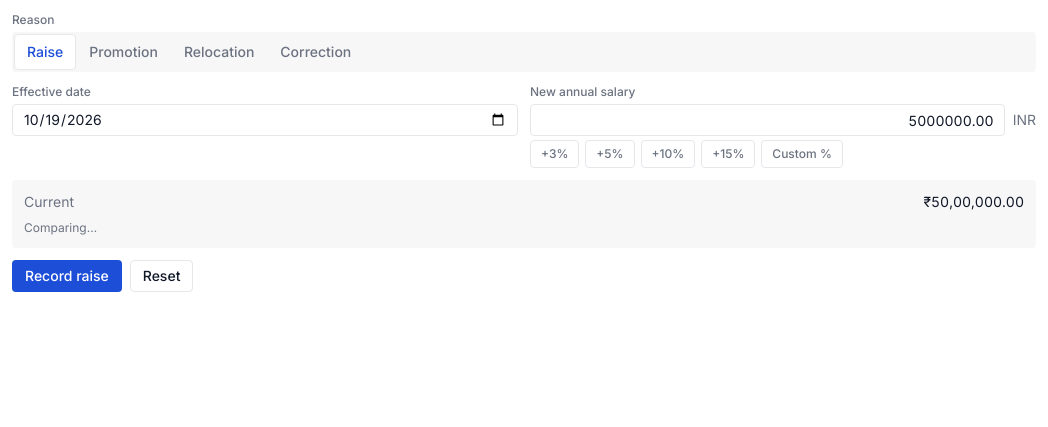
SalaryChangeForm › shows the server message when a business rule is broken
The width and height of the screenshot is (1048, 427).
Replace the text in the field labelled "New annual salary" with "5500000" at x=767, y=120, box [530,104,1005,136]
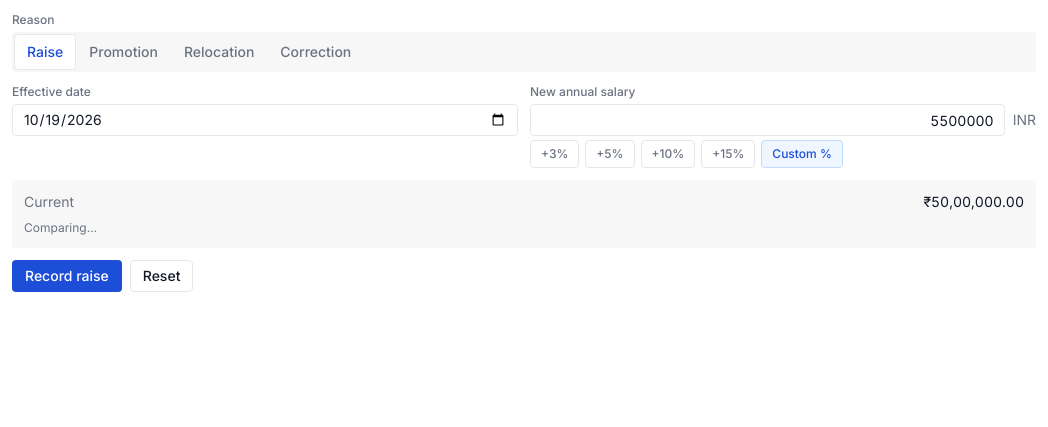
Click the button "Record raise" at x=67, y=276, box [12,260,122,292]
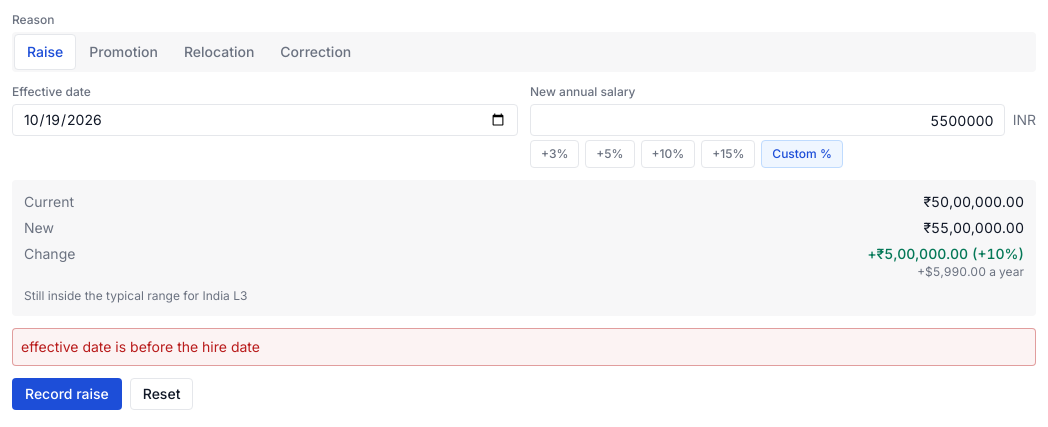
Result: the message reads "effective date is before the hire date" at [21,338,260,355]
